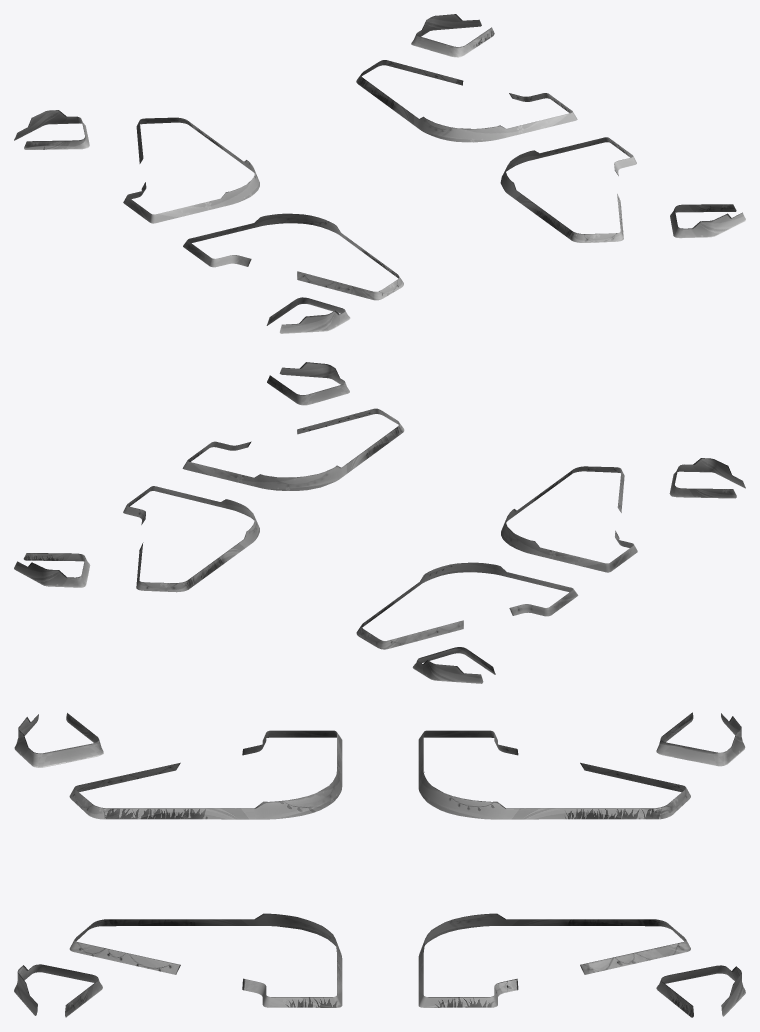
Rendered from pref_sm_beach_winter_Campcolor01_lv1.fbx.
3 renders of one model, top to bottom at view 1: azimuth 30°, elevation 25°; view 2: azimuth 150°, elevation 25°; view 3: azimuth 270°, elevation 25°, orthographic. The views are drawn at different scales.
Parts seen in each view (by area): view 1: sm_beach_winter_billboard_orange_lv1, sm_beach_winter_billboard_purple_lv1; view 2: sm_beach_winter_billboard_orange_lv1, sm_beach_winter_billboard_purple_lv1; view 3: sm_beach_winter_billboard_purple_lv1, sm_beach_winter_billboard_orange_lv1.
Part boxes in pixels (x1,y1,x2,y2): sm_beach_winter_billboard_orange_lv1: (356, 14, 745, 242); sm_beach_winter_billboard_purple_lv1: (14, 110, 403, 333); sm_beach_winter_billboard_orange_lv1: (14, 362, 404, 592); sm_beach_winter_billboard_purple_lv1: (356, 458, 745, 683); sm_beach_winter_billboard_purple_lv1: (14, 712, 745, 819); sm_beach_winter_billboard_orange_lv1: (14, 913, 745, 1017).
Size of the model in its own units: 50.14 by 1.82 by 52.08.
